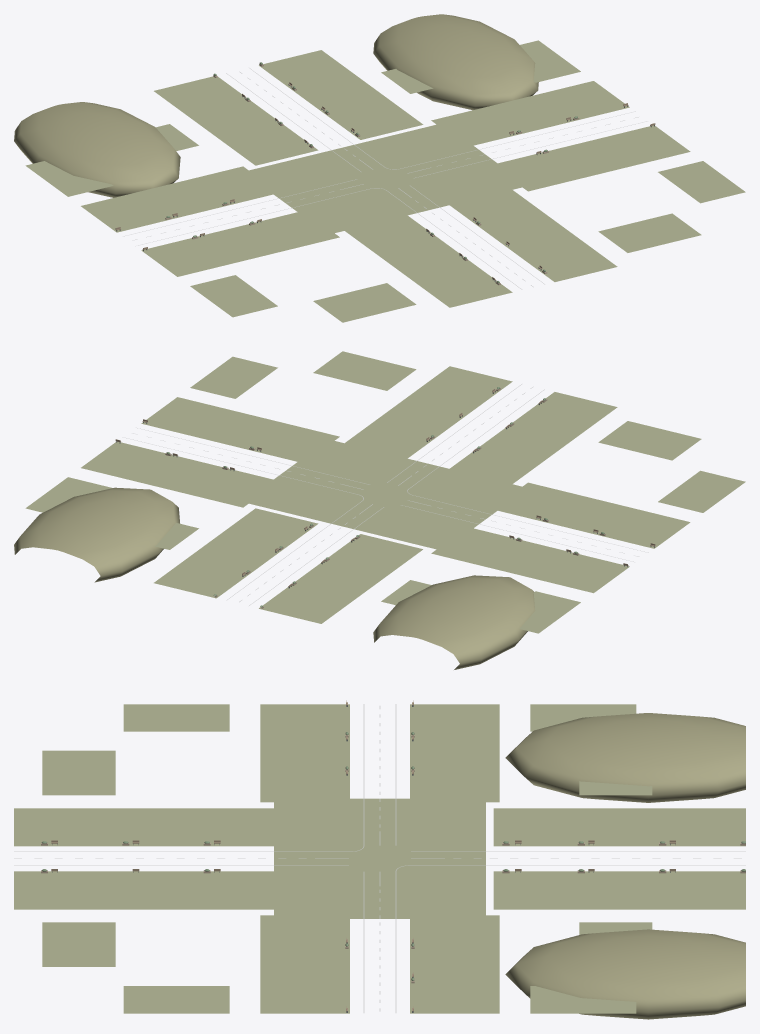
The picture shows the model from 3 angles, top to bottom: view 1: azimuth 30°, elevation 25°; view 2: azimuth 150°, elevation 25°; view 3: azimuth 270°, elevation 25°; orthographic projection. The views are drawn at different scales.
Visible parts, largest first — view 1: static; view 2: static; view 3: static.
Part boxes in pixels (x1,y1,x2,y2): static: (14, 14, 745, 322); static: (14, 351, 745, 669); static: (14, 700, 745, 1019).
Size of what is drawn, in the model's own units: 180 by 14.08 by 180.
